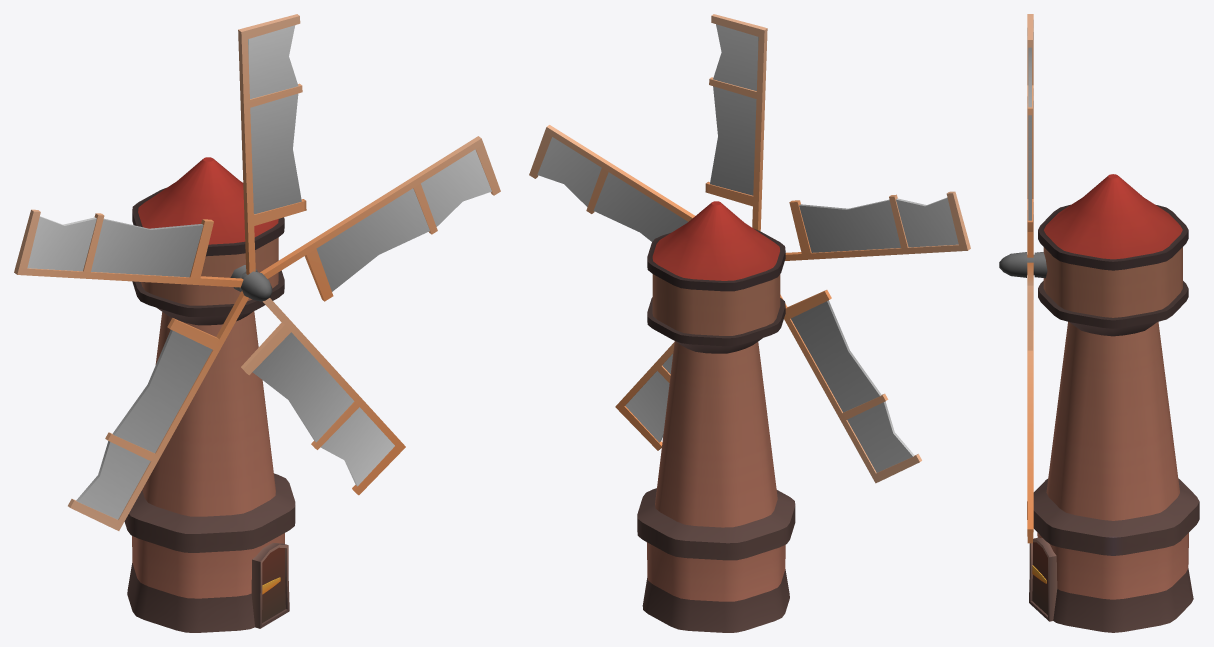
The model's file is Degirmen2.glb.
3 renders of one model, left to right at view 1: azimuth 30°, elevation 25°; view 2: azimuth 150°, elevation 25°; view 3: azimuth 270°, elevation 25°, orthographic. The views are drawn at different scales.
Visible parts, largest first — view 1: windmill_Windmill_0; view 2: windmill_Windmill_0; view 3: windmill_Windmill_0.
Boxes of the visible parts, box(x1,y1,x2,y2) form: windmill_Windmill_0: box(14, 14, 500, 632); windmill_Windmill_0: box(529, 14, 970, 632); windmill_Windmill_0: box(999, 14, 1199, 632).
Size of the model in its own units: 13.04 by 15.55 by 4.85.
Materials: 1 (1 with a texture image).
